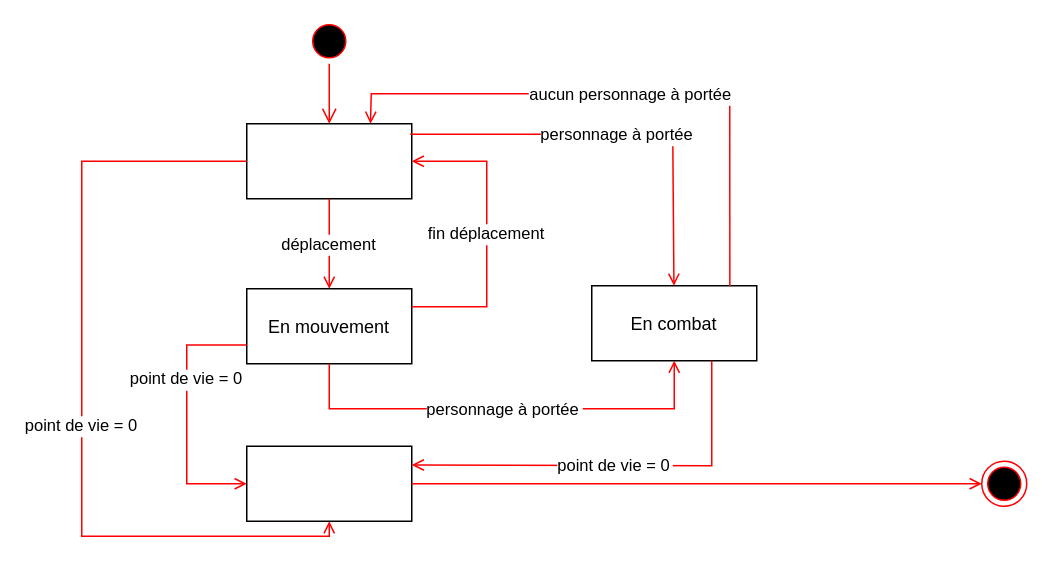
Image size: 1052x561. Some labels were removed from this diagram. The shapes that lost their labels are listed below. From the top down, each one's centre as x and y in pixels, then its label:
the point at 328,160: Inactif
the point at 328,483: Mort
